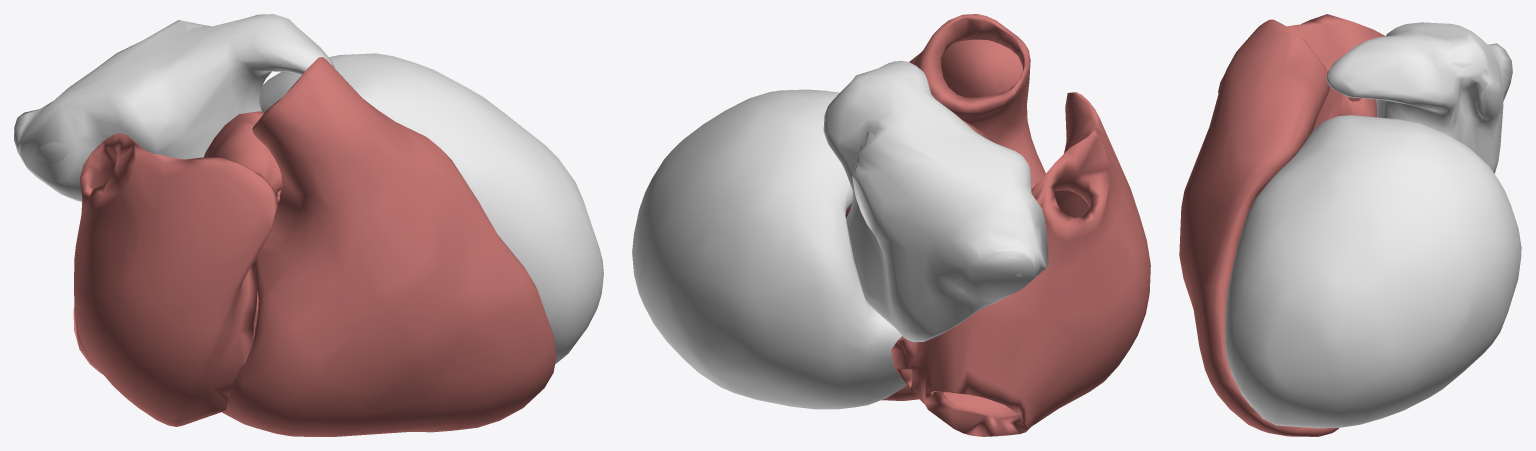
File: vh_f_heart-20.fbx
3 views of the same model, side by side, from view 1: azimuth 30°, elevation 25°; view 2: azimuth 150°, elevation 25°; view 3: azimuth 270°, elevation 25° (orthographic). The views are drawn at different scales.
Visible parts, largest first — view 1: VH_F_right_ventricle, VH_F_right_cardiac_atrium, VH_F_left_ventricle, VH_F_left_cardiac_atrium, VH_F_aortic_valve; view 2: VH_F_left_ventricle, VH_F_left_cardiac_atrium, VH_F_right_cardiac_atrium, VH_F_right_ventricle, VH_F_pulmonary_valve; view 3: VH_F_left_ventricle, VH_F_right_ventricle, VH_F_left_cardiac_atrium, VH_F_right_cardiac_atrium, VH_F_aortic_valve.
Boxes of the visible parts, left/top/right/bottom form: VH_F_right_ventricle: left=222, top=57, right=556, bottom=436; VH_F_right_cardiac_atrium: left=73, top=133, right=278, bottom=426; VH_F_left_ventricle: left=259, top=53, right=603, bottom=364; VH_F_left_cardiac_atrium: left=14, top=14, right=334, bottom=201; VH_F_aortic_valve: left=203, top=111, right=282, bottom=202; VH_F_left_ventricle: left=632, top=89, right=906, bottom=409; VH_F_left_cardiac_atrium: left=823, top=60, right=1048, bottom=342; VH_F_right_cardiac_atrium: left=891, top=92, right=1150, bottom=436; VH_F_right_ventricle: left=881, top=14, right=1045, bottom=400; VH_F_pulmonary_valve: left=941, top=39, right=1022, bottom=97; VH_F_left_ventricle: left=1224, top=115, right=1521, bottom=428; VH_F_right_ventricle: left=1179, top=19, right=1338, bottom=436; VH_F_left_cardiac_atrium: left=1326, top=22, right=1512, bottom=173; VH_F_right_cardiac_atrium: left=1218, top=14, right=1384, bottom=102; VH_F_aortic_valve: left=1312, top=87, right=1376, bottom=132.
Size of the model in its own units: 14.26 by 10.98 by 10.14.
